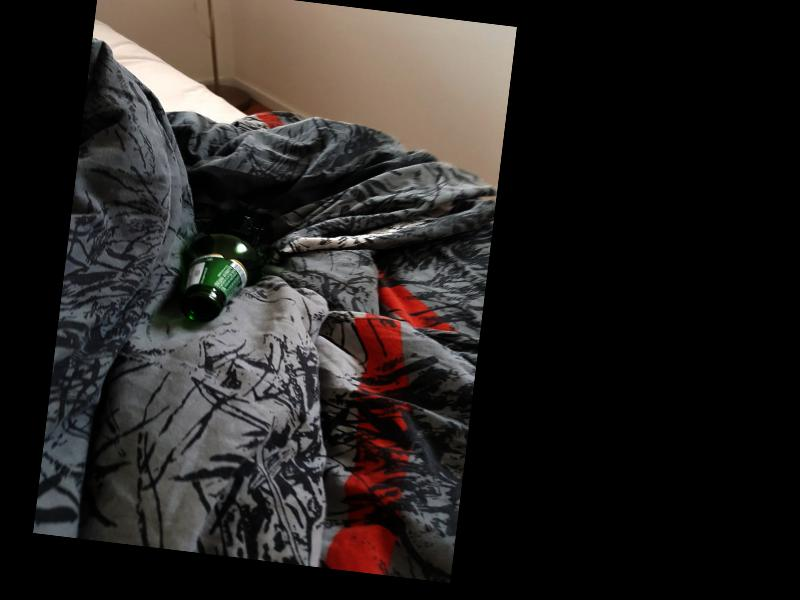Beer: (175, 201, 275, 329)
